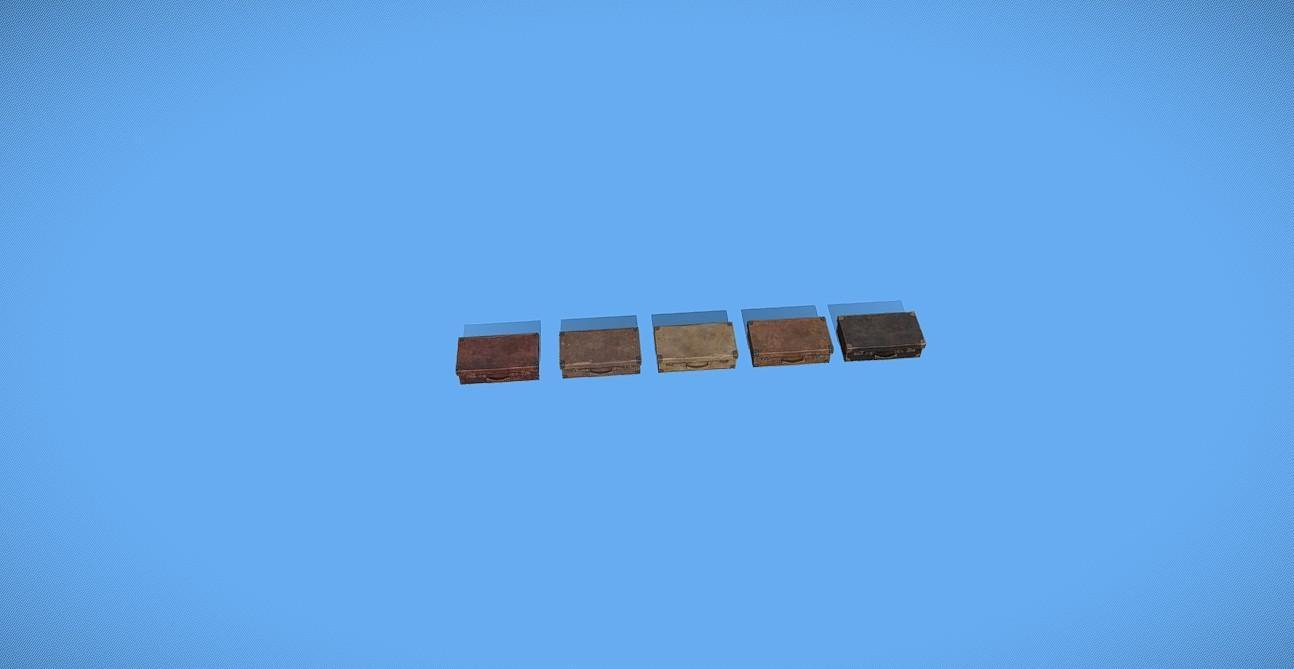Suitcase: (454, 299, 927, 384)
